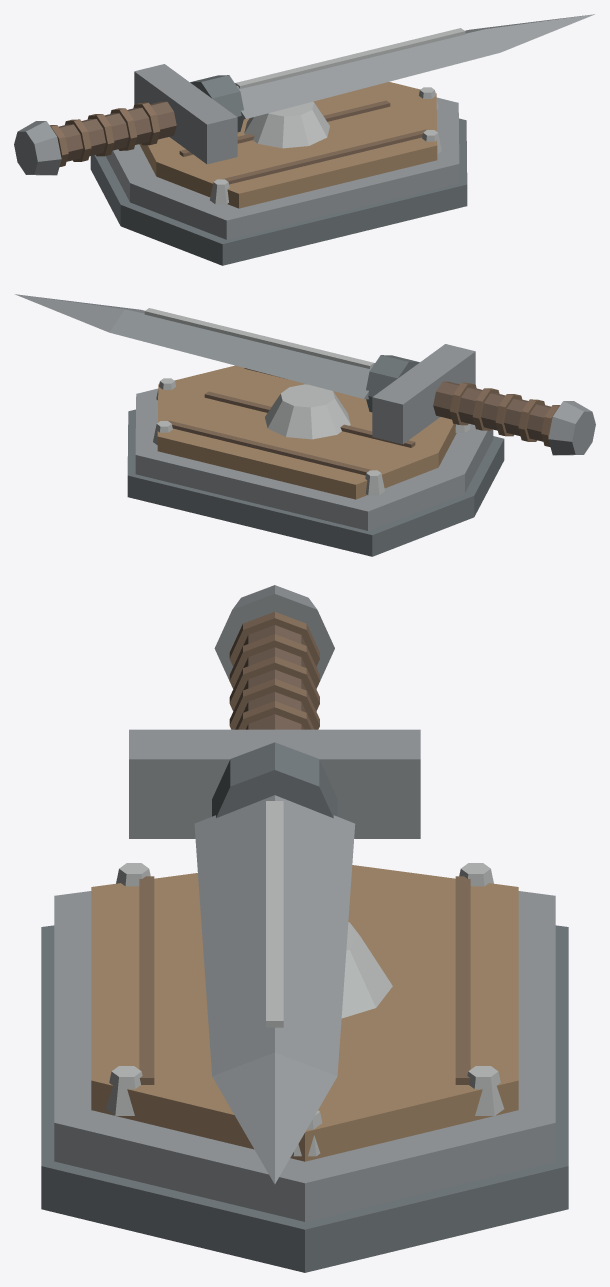
File: iron-sword.glb
3 views of the same model, one above another, from view 1: azimuth 30°, elevation 25°; view 2: azimuth 150°, elevation 25°; view 3: azimuth 270°, elevation 25° (orthographic). The views are drawn at different scales.
Parts seen in each view (by area): view 1: iron-sword; view 2: iron-sword; view 3: iron-sword.
Boxes of the visible parts, bbox=[...] form: iron-sword: bbox=[14, 14, 594, 265]; iron-sword: bbox=[15, 294, 595, 556]; iron-sword: bbox=[41, 585, 568, 1272].
Size of the model in its own units: 0.524 by 0.116 by 0.21.
